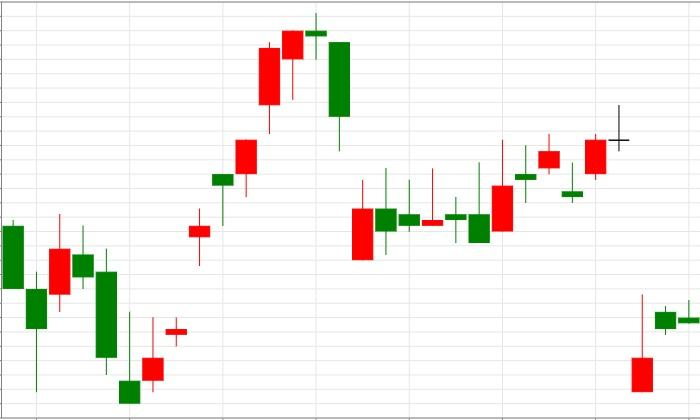evening_star_fall: (142, 12, 349, 393)
hanging_man_fall: (142, 31, 304, 393)
